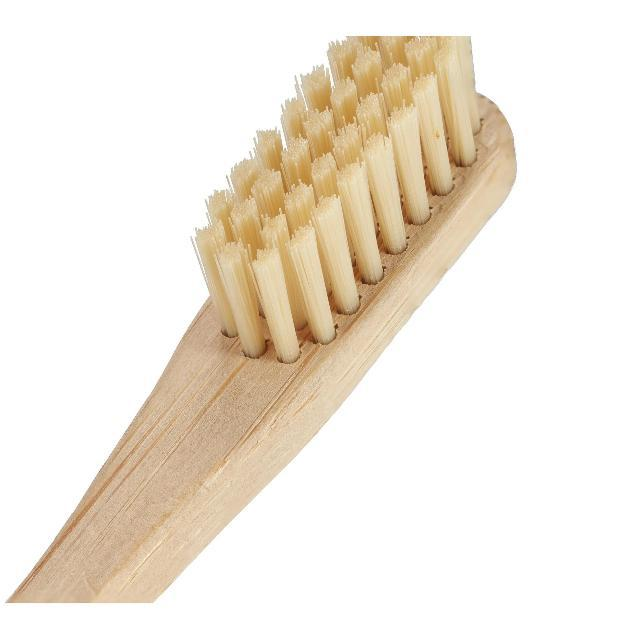toothbrush: (0, 36, 578, 604)
